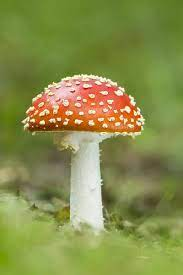Amanita muscaria: (16, 64, 153, 241)
